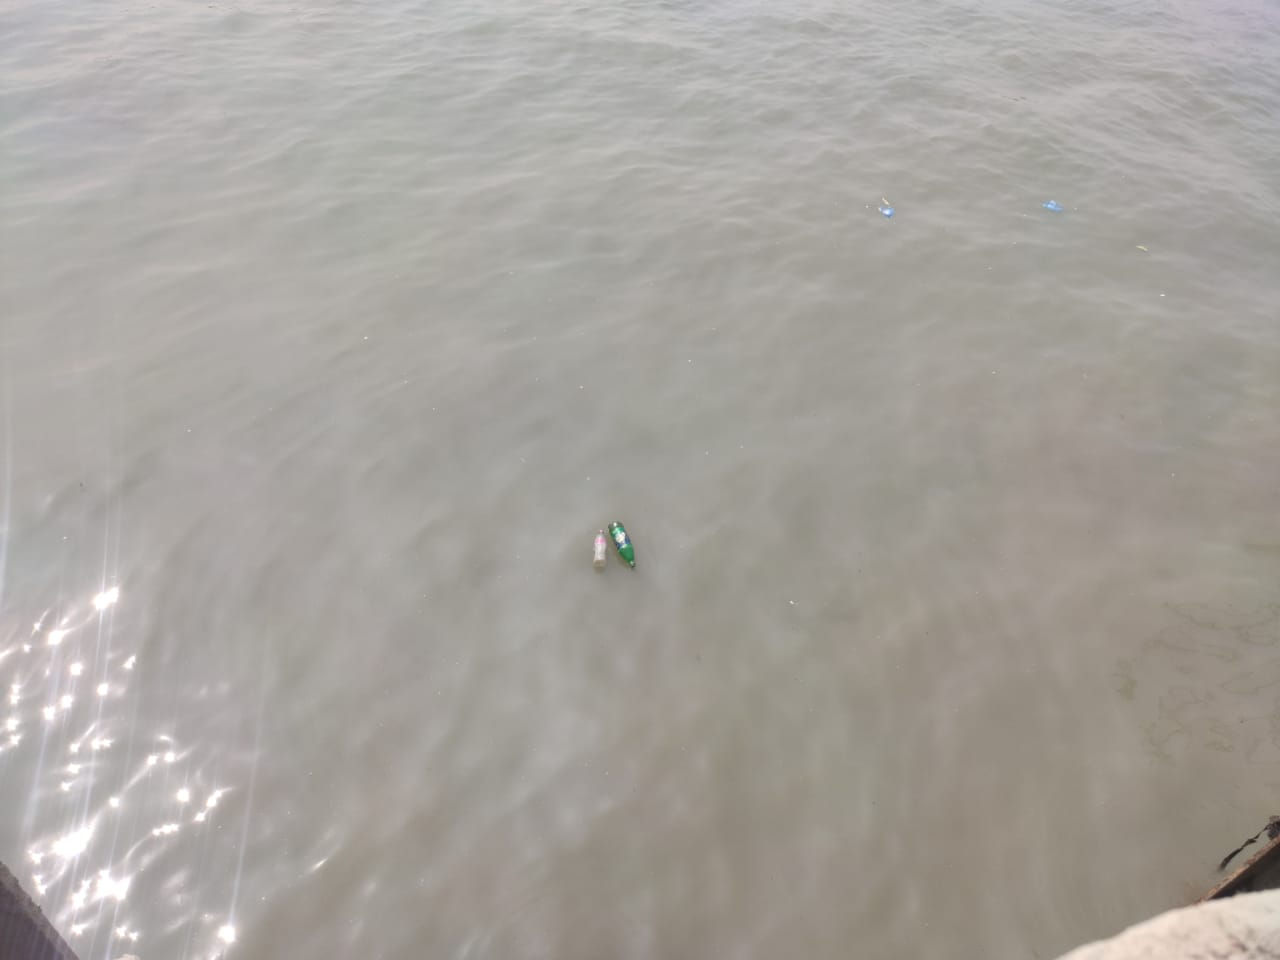Plastic Bottle: (608, 521, 636, 570), (593, 529, 606, 568)
